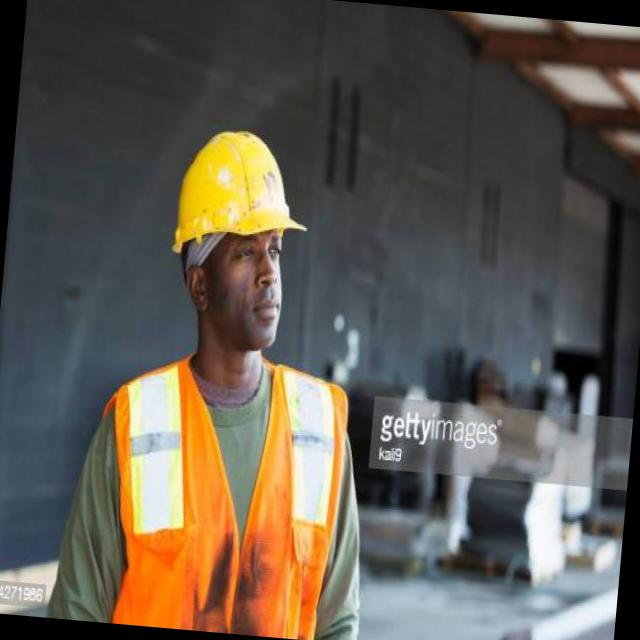Helmet: (157, 116, 319, 258)
Vest: (83, 348, 354, 638)
